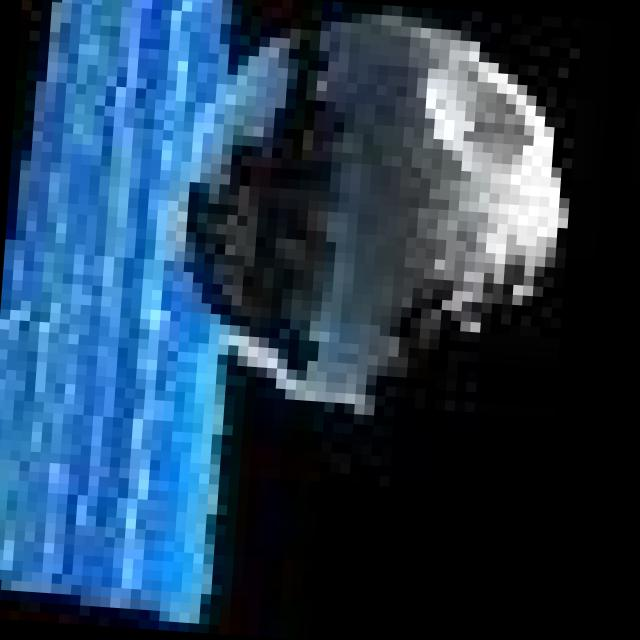Death Star: (143, 0, 591, 447)
